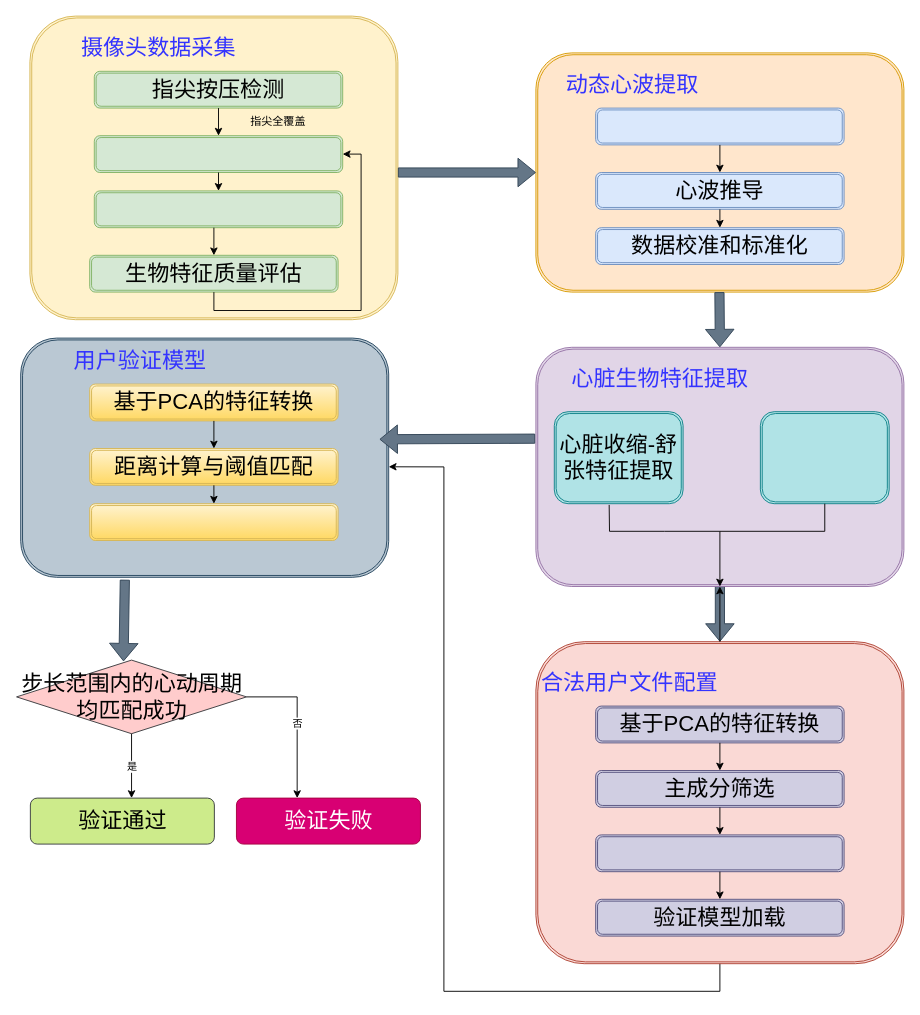
The diagram is 920 pixels wide and 1015 high, and some of its shapes have lost their labels. Here are the shapes that lost their labels. From the top down, the centre of each, then its label:
At pixel 719 126: "动态像素选择".
At pixel 218 153: "开始数据采集".
At pixel 218 209: "心动周期划分".
At pixel 824 457: "心脏非基准特征提取".
At pixel 213 521: "步长选择".
At pixel 719 853: "生成配置文件".
